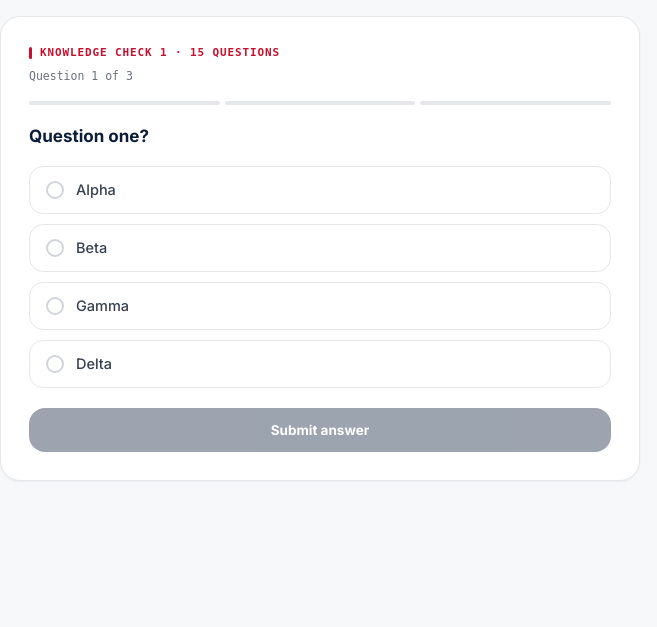
it: QuizWidget server-graded mode (t_79a92b83) › ships NO answer key to the server and grades feedback from the response
Click the radio button labelled "Alpha".
click(96, 190)  # box x1=29 y1=166 x2=611 y2=214
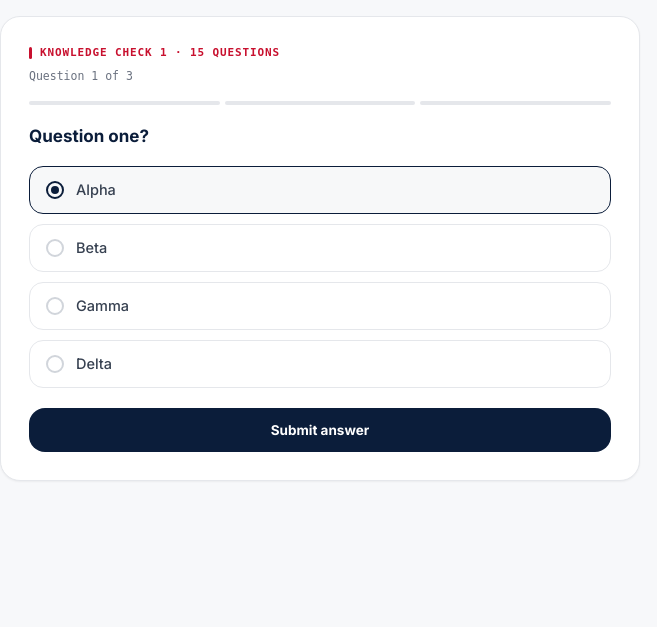
Click the button "Submit answer".
click(320, 430)  # box x1=29 y1=408 x2=611 y2=452
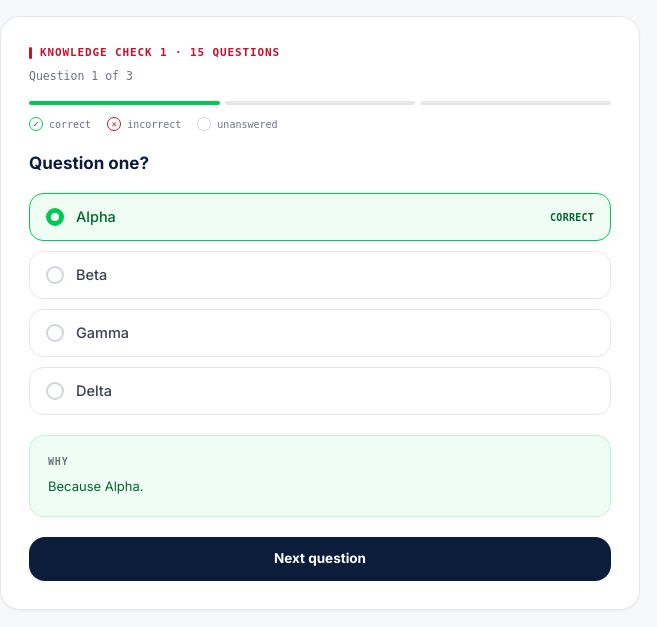
Now the text "Because Alpha." is shown, box x1=48 y1=478 x2=144 y2=494
Now the button "Next question" is shown, box x1=29 y1=536 x2=611 y2=580
